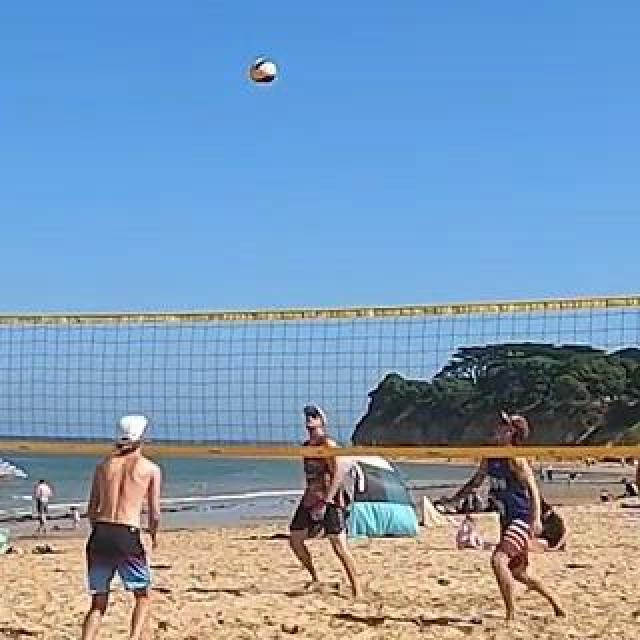volleyball: (251, 60, 277, 84)
